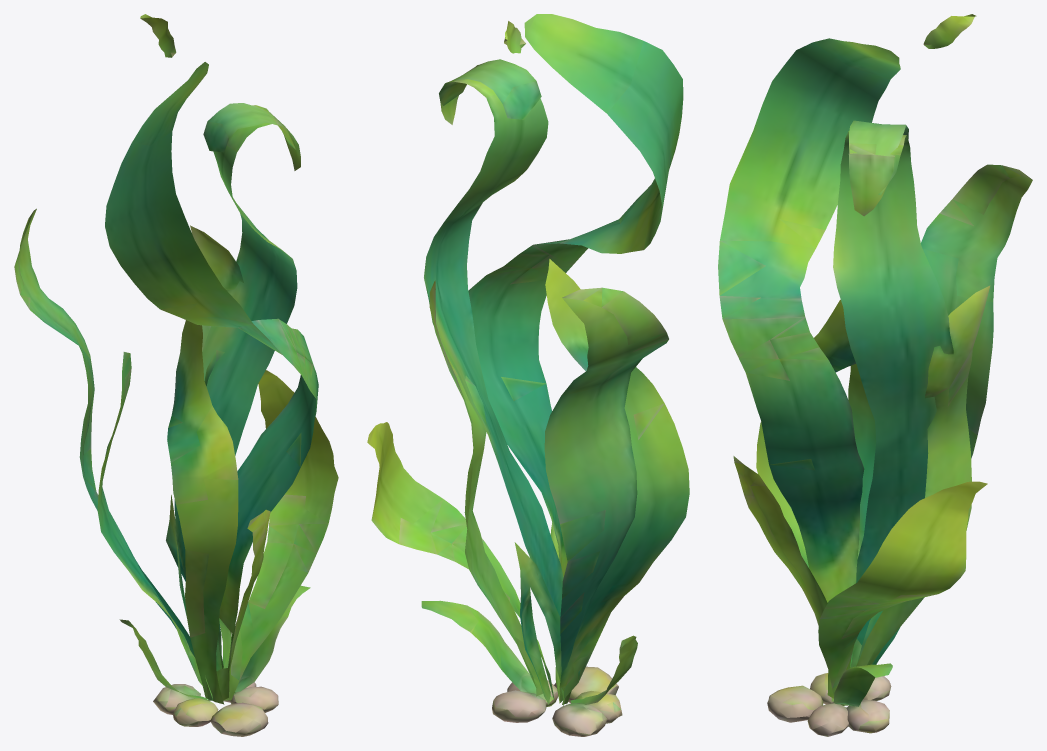
File: alga_3_1500.glb
3 views of the same model, side by side, from view 1: azimuth 30°, elevation 25°; view 2: azimuth 150°, elevation 25°; view 3: azimuth 270°, elevation 25° (orthographic). The views are drawn at different scales.
Parts seen in each view (by area): view 1: alga_3_malla; view 2: alga_3_malla; view 3: alga_3_malla.
Boxes of the visible parts, left/top/right/bottom form: alga_3_malla: left=14, top=14, right=338, bottom=736; alga_3_malla: left=367, top=14, right=689, bottom=736; alga_3_malla: left=718, top=14, right=1032, bottom=736.
Size of the model in its own units: 0.1878 by 0.4274 by 0.1746.
1 material, 1 textured.
